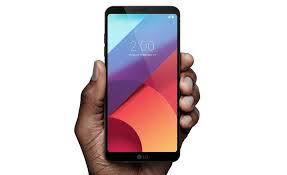lg: (101, 2, 186, 168)
